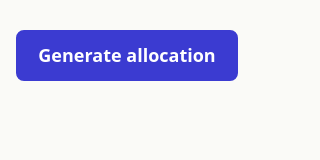
App › shows the elapsed time while solving
Click the button "Generate allocation" at (127, 55), box [16,30,238,80]
Wait 32000 ms
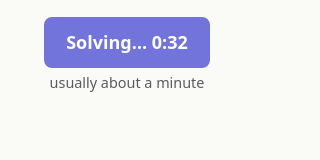
Expected: the button "Solving… 0:32" is disabled, [44,17,210,68]
Expected: the text "usually about a minute" is shown, [50,72,204,93]
Expected: the element "Solving… 0:32" is shown, [44,17,210,93]
